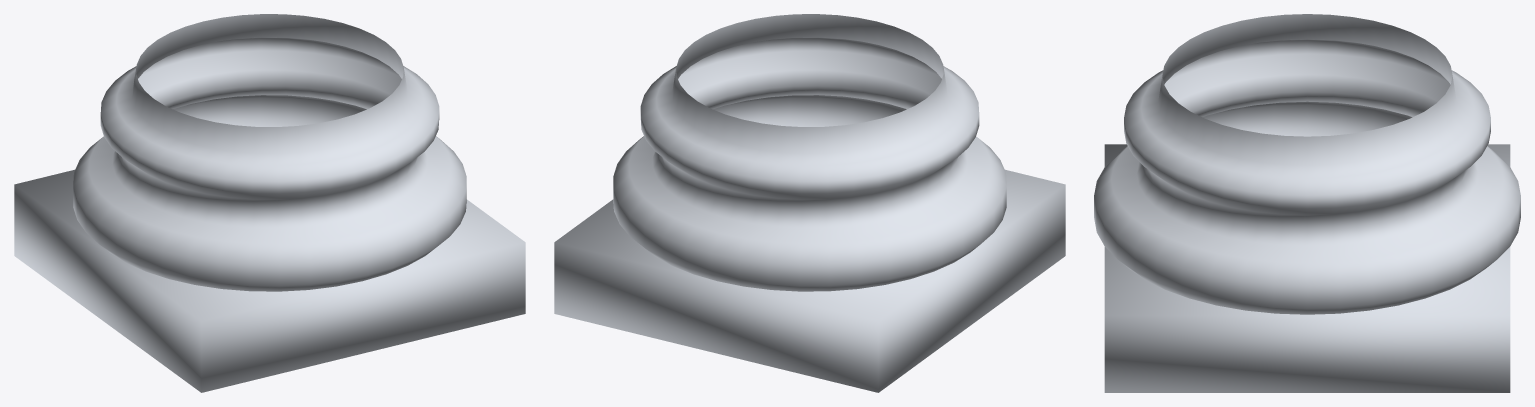
The model's file is KRM_M40_P8_column_attic_base_marble.fbx.
The picture shows the model from 3 angles, left to right: view 1: azimuth 30°, elevation 25°; view 2: azimuth 150°, elevation 25°; view 3: azimuth 270°, elevation 25°; orthographic projection. The views are drawn at different scales.
Parts seen in each view (by area): view 1: KRM_M40_P8_column_attic_base_marble; view 2: KRM_M40_P8_column_attic_base_marble; view 3: KRM_M40_P8_column_attic_base_marble.
Part boxes in pixels (box(x1,y1,x2,y2)): KRM_M40_P8_column_attic_base_marble: box(14, 14, 525, 392); KRM_M40_P8_column_attic_base_marble: box(554, 14, 1065, 392); KRM_M40_P8_column_attic_base_marble: box(1094, 14, 1520, 392).
Size of the model in its own units: 100 by 60 by 100.
Materials: 1 (1 with a texture image).
